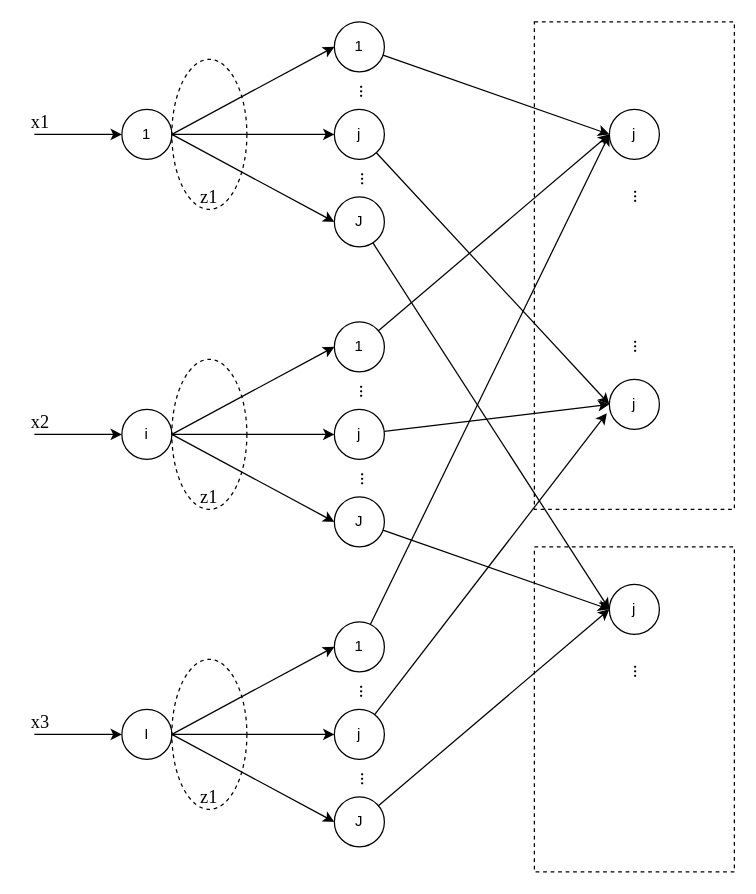
This 756x894 diagram has some shape labels left out. Each missing label, with the box of its shape:
R +: (533, 21, 734, 509)
R -: (533, 546, 734, 872)
